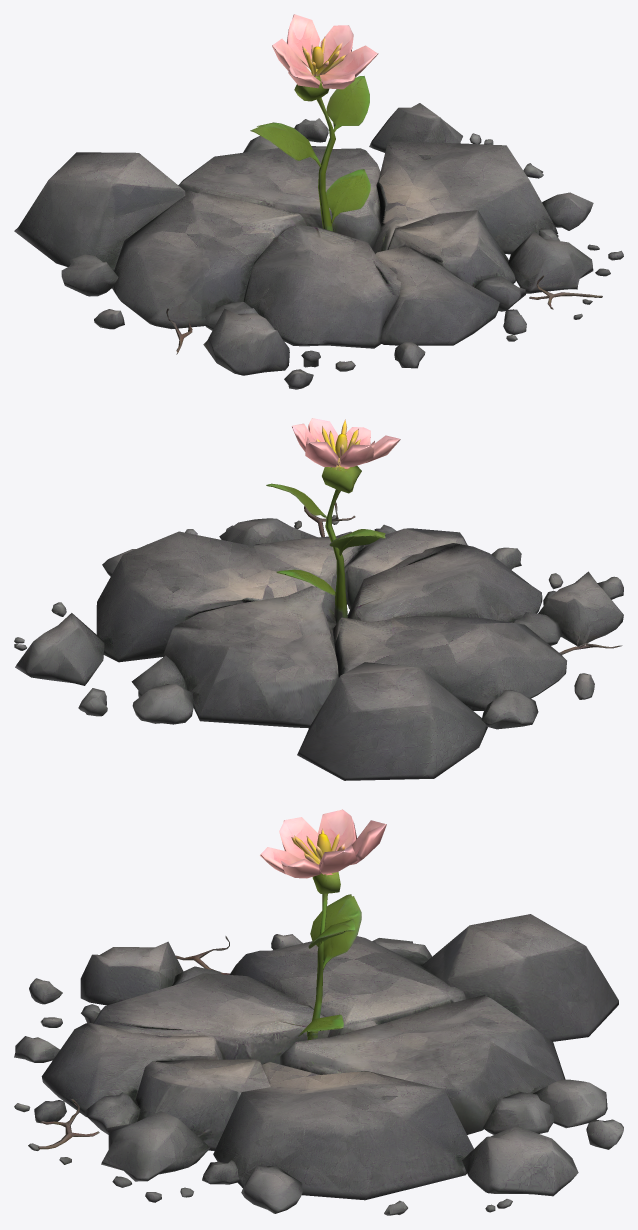
3 views of the same model, one above another, from view 1: azimuth 30°, elevation 25°; view 2: azimuth 150°, elevation 25°; view 3: azimuth 270°, elevation 25° (orthographic). The views are drawn at different scales.
Visible parts, largest first — view 1: mesh_node; view 2: mesh_node; view 3: mesh_node.
Part boxes in pixels (bbox=[...]): mesh_node: bbox=[14, 14, 623, 389]; mesh_node: bbox=[14, 418, 623, 780]; mesh_node: bbox=[14, 809, 623, 1215].
Bounding box in the file's own units: 0.9961 × 0.4541 × 0.9453.
Materials: 1 (1 with a texture image).
